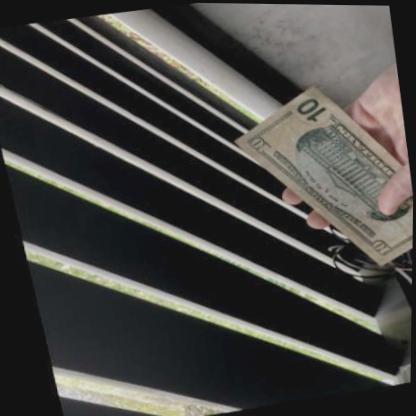dollar_back: (228, 84, 414, 268)
